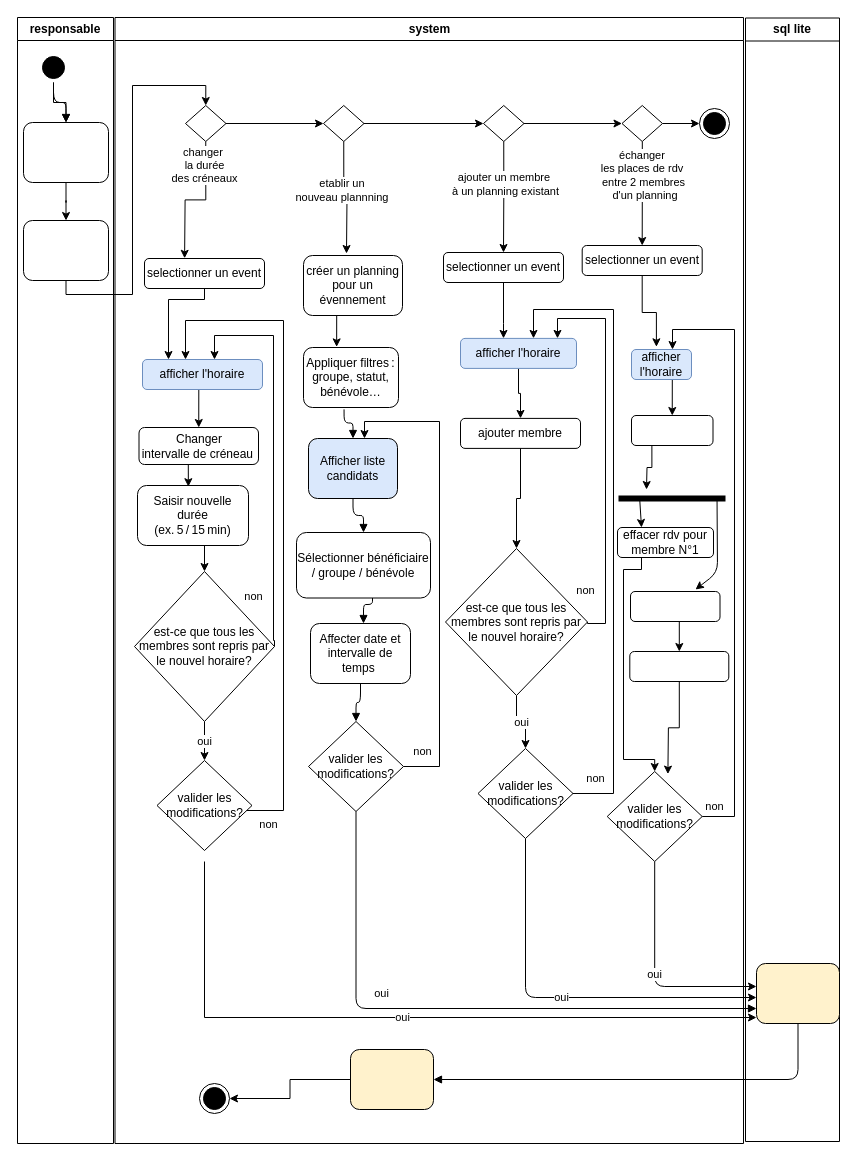
The diagram is 857 pixels wide and 1161 high, and some of its shapes have lost their labels. Each missing label, with the box of its shape:
cliquer sur une fonctionnalité: (22, 220, 108, 280)
intervertir rdv des 2 membres: (629, 650, 729, 682)
message confirmation: (350, 1048, 434, 1110)
Responsable ouvre le module planning: (22, 122, 108, 182)
Sauvegarder planning: (756, 962, 840, 1024)
sélectionner membre N°1: (630, 414, 713, 446)
sélectionner membre N°2: (630, 590, 720, 622)
